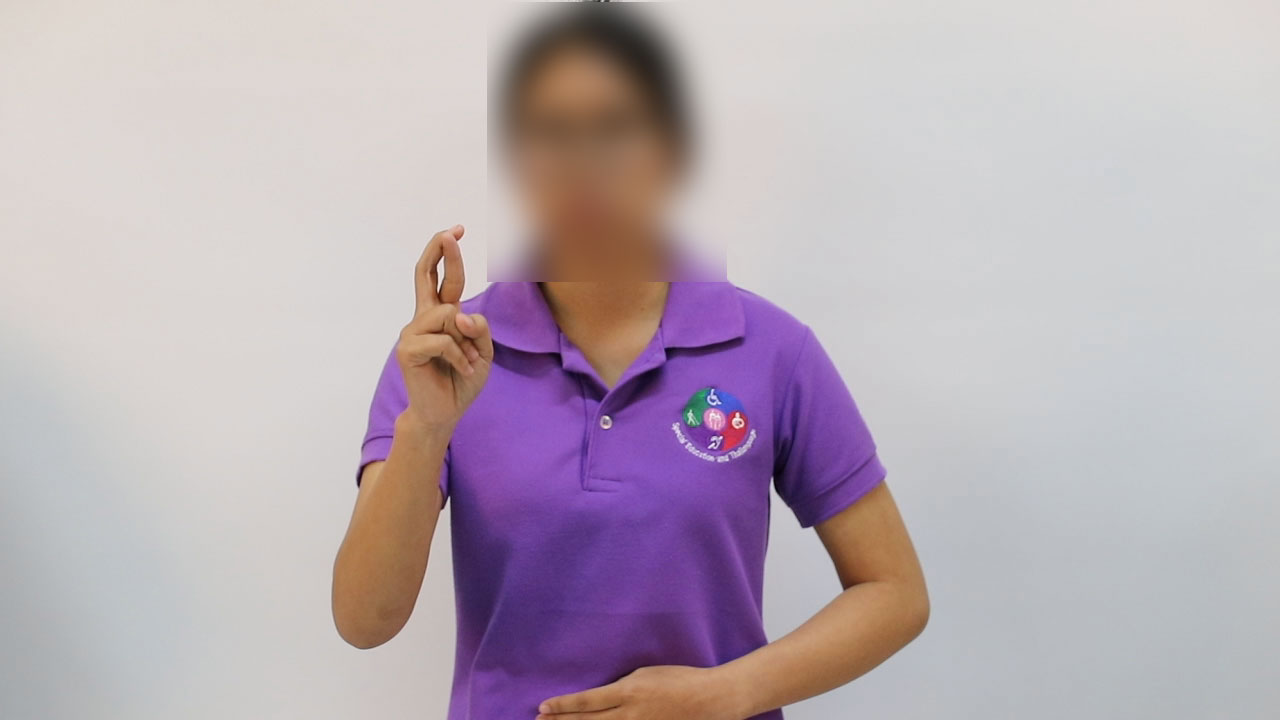rao: (377, 220, 501, 437)
